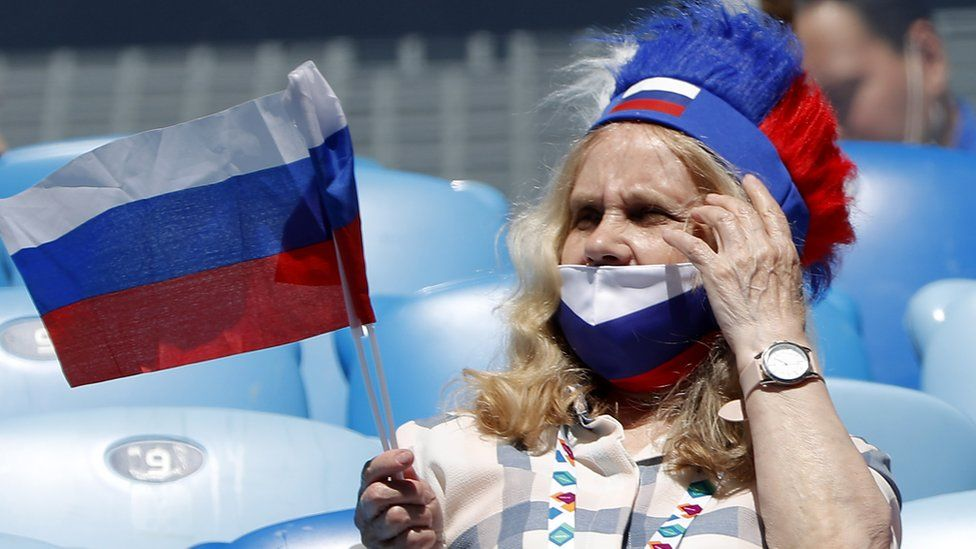with_incorrect_mask: (556, 162, 693, 360)
